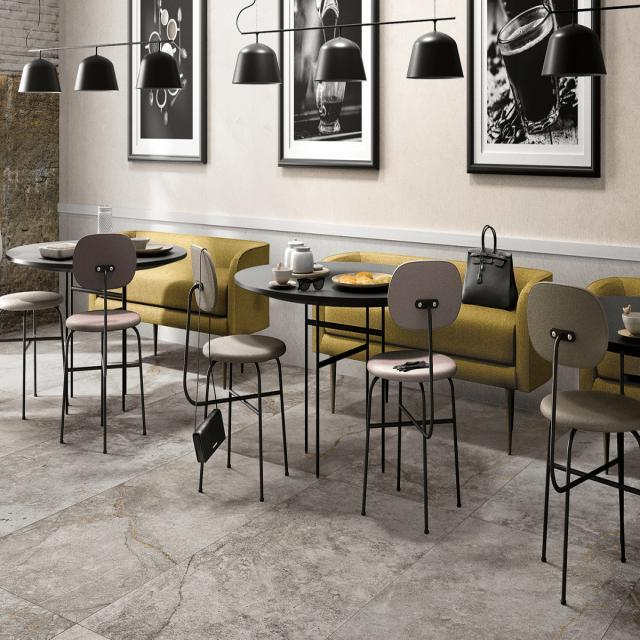chair: (526, 280, 640, 608), (358, 257, 464, 534), (180, 242, 290, 506), (59, 229, 148, 454), (526, 282, 640, 448), (364, 258, 462, 388), (188, 242, 290, 360), (68, 230, 138, 341)
